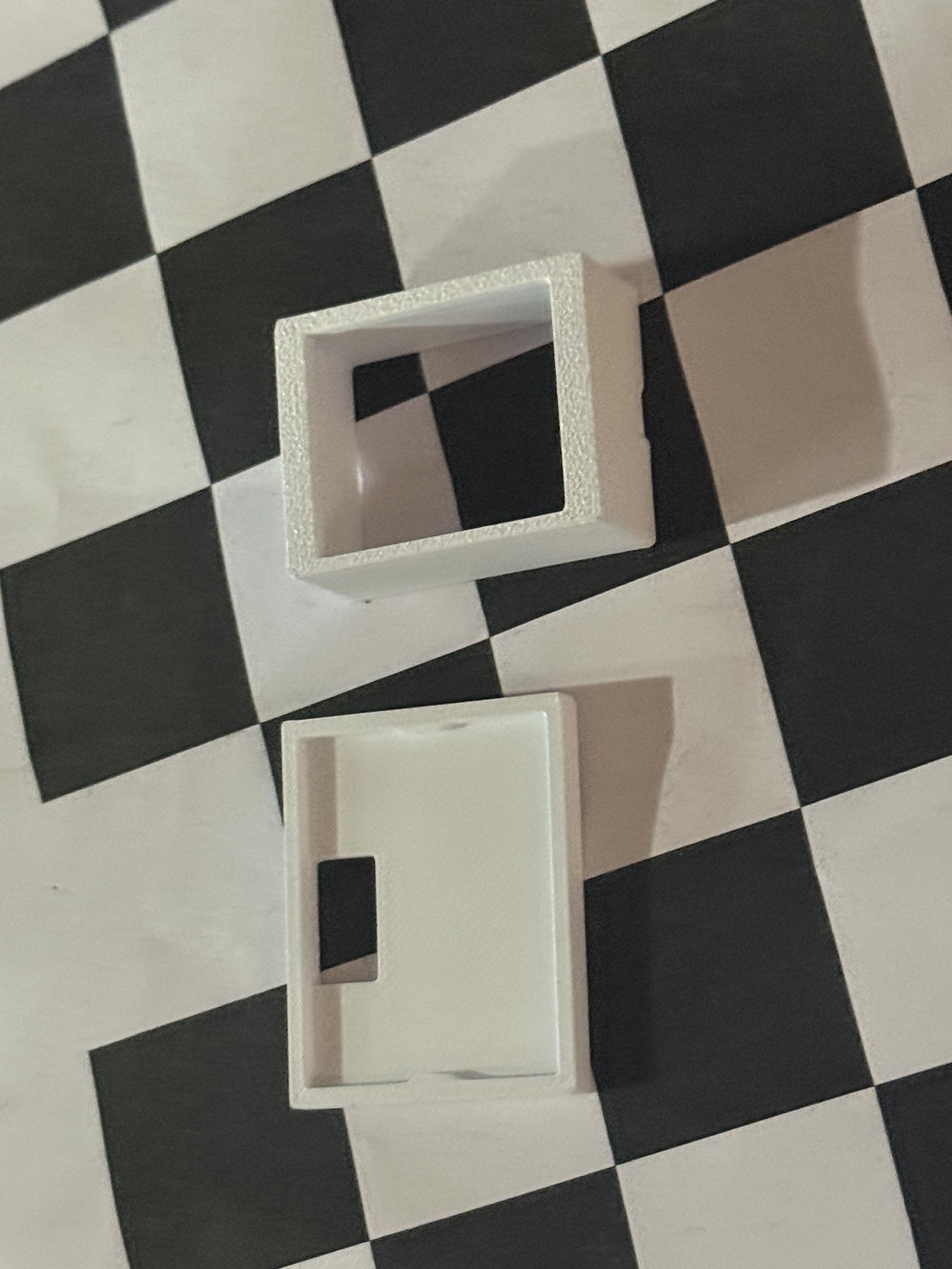enclosure: (280, 692, 598, 1112), (274, 252, 656, 599)
